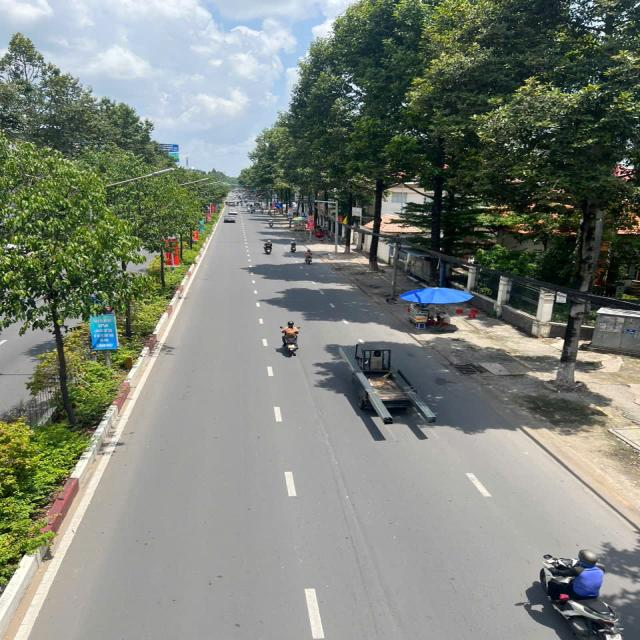car: (222, 211, 239, 225), (227, 205, 242, 215)
motobyte: (535, 546, 630, 640), (278, 318, 306, 358), (260, 235, 278, 256), (303, 246, 317, 266), (287, 235, 300, 255), (266, 217, 278, 229)
